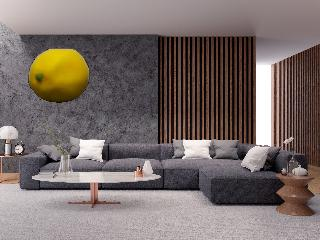lemon: (26, 44, 95, 107)
